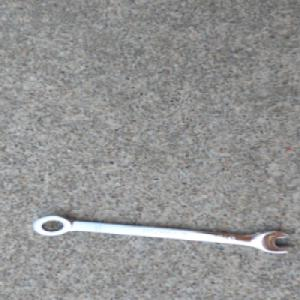Wrench: (31, 213, 293, 254)
